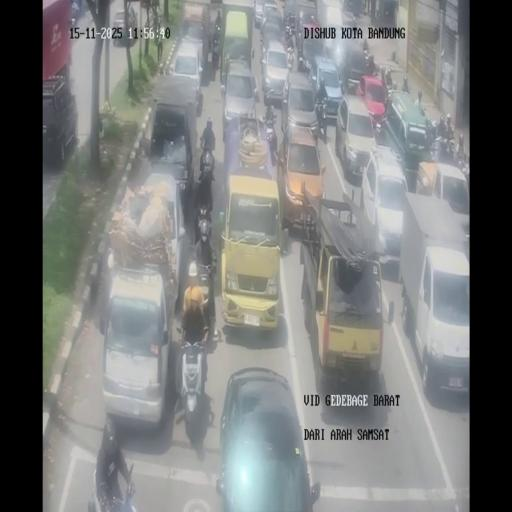3: (298, 193, 384, 398), (398, 200, 468, 400), (40, 0, 78, 168), (314, 0, 343, 50)
car: (216, 368, 317, 511), (100, 267, 174, 430), (219, 173, 286, 333), (136, 171, 188, 295), (360, 144, 410, 266), (278, 121, 326, 231), (338, 91, 380, 181), (220, 60, 258, 140), (167, 40, 203, 114), (306, 56, 342, 123), (260, 42, 291, 106), (112, 8, 137, 47), (260, 6, 284, 45), (254, 0, 264, 27)
truck: (173, 326, 210, 437), (89, 450, 142, 510), (186, 246, 217, 332), (195, 155, 215, 214), (262, 111, 278, 165), (195, 207, 214, 251), (372, 108, 390, 144), (455, 152, 469, 198), (434, 132, 455, 161), (210, 34, 222, 72), (425, 115, 438, 147), (284, 21, 296, 55), (382, 86, 394, 118), (342, 2, 356, 24), (296, 20, 304, 58), (364, 46, 374, 73), (396, 80, 411, 98), (383, 66, 394, 90), (297, 54, 309, 74), (416, 100, 425, 116), (360, 0, 368, 16), (374, 8, 380, 23)
